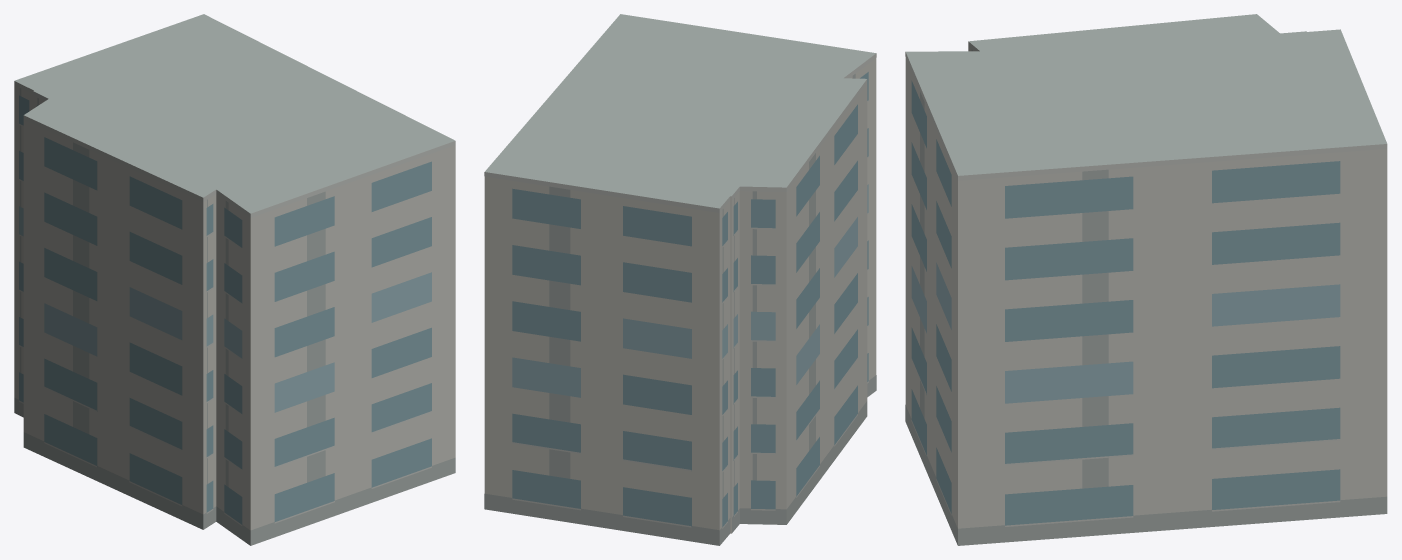
The model's file is survey-upis-32840701.glb.
The picture shows the model from 3 angles, left to right: view 1: azimuth 30°, elevation 25°; view 2: azimuth 150°, elevation 25°; view 3: azimuth 270°, elevation 25°; orthographic projection. The views are drawn at different scales.
Parts seen in each view (by area): view 1: survey-upis-32840701.tmp; view 2: survey-upis-32840701.tmp; view 3: survey-upis-32840701.tmp.
Part boxes in pixels (box(x1,y1,x2,y2)): survey-upis-32840701.tmp: box(14, 14, 455, 545); survey-upis-32840701.tmp: box(484, 14, 876, 545); survey-upis-32840701.tmp: box(905, 14, 1387, 545).
Bounding box in the file's own units: 17.09 × 18.2 × 21.49.
